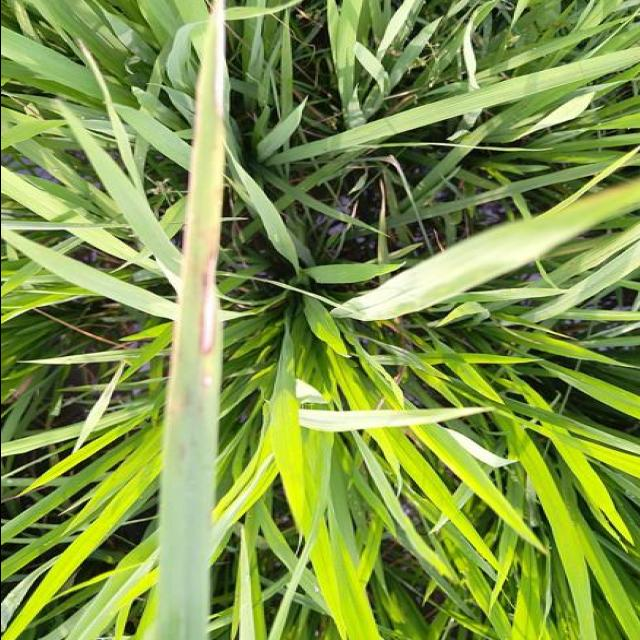Leaf Streak: (184, 0, 229, 381), (167, 317, 184, 434)
